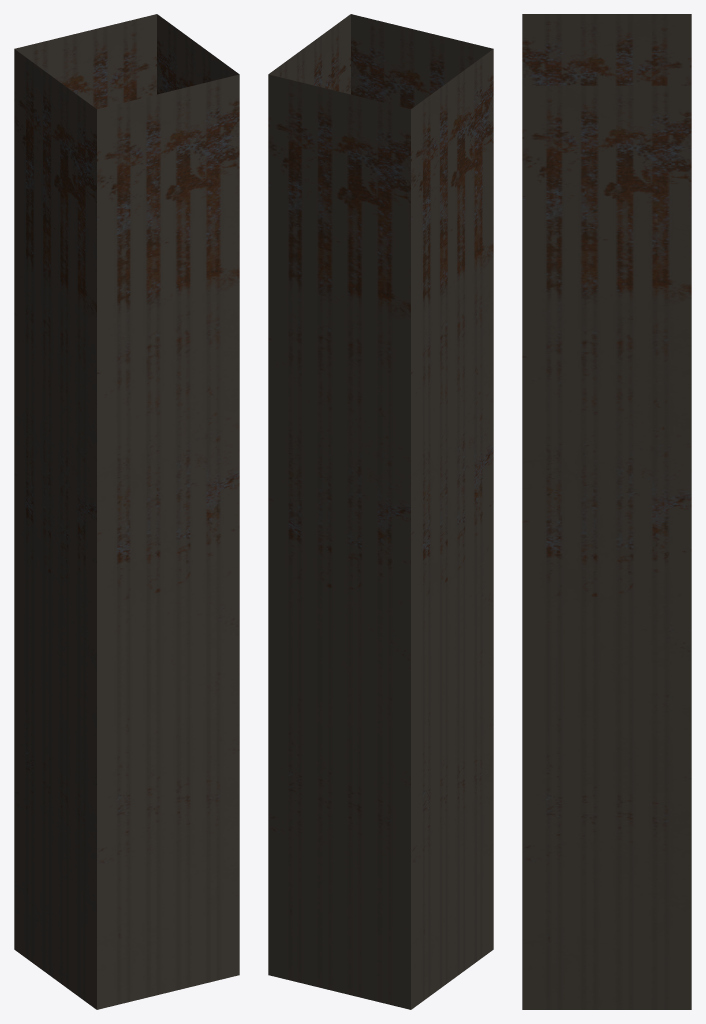
The model's file is Metal_Column_Center.gltf.
3 views of the same model, side by side, from view 1: azimuth 30°, elevation 25°; view 2: azimuth 150°, elevation 25°; view 3: azimuth 270°, elevation 25° (orthographic). The views are drawn at different scales.
Parts seen in each view (by area): view 1: Metal_Column_Center; view 2: Metal_Column_Center; view 3: Metal_Column_Center.
Part boxes in pixels (left/top/right/bottom): Metal_Column_Center: left=14, top=14, right=239, bottom=1009; Metal_Column_Center: left=268, top=14, right=493, bottom=1009; Metal_Column_Center: left=522, top=14, right=691, bottom=1009.
Bounding box in the file's own units: 0.4978 × 3 × 0.4982.
Materials: 1 (1 with a texture image).
